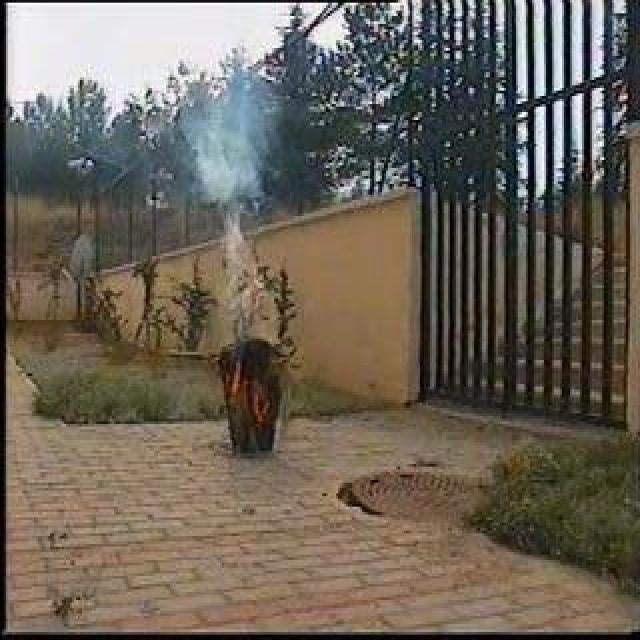Smoke: (185, 64, 271, 227)
